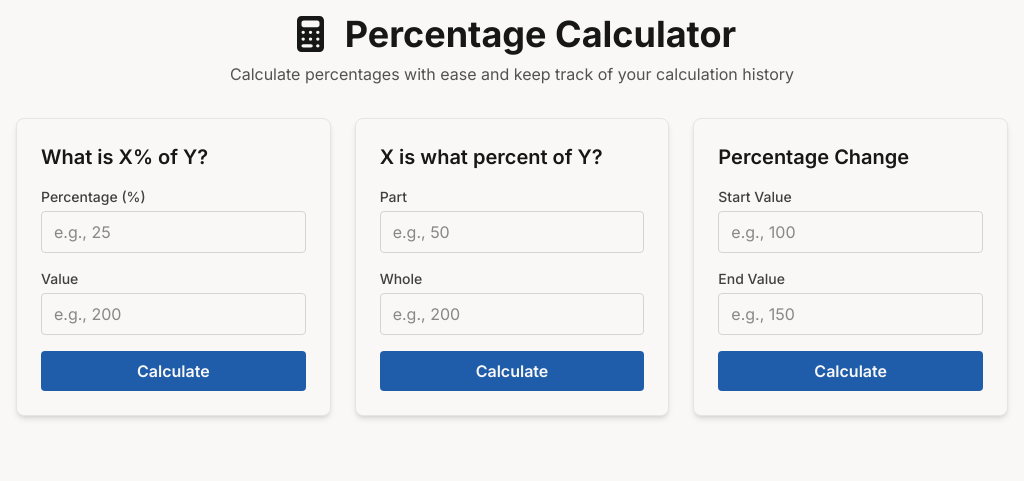
Test case: PercentageCalculator › Percentage Change Calculator › shows error when start value is zero
Step 1. Type "0" into the number field labelled "Start Value" → x=851, y=232, box [718, 211, 983, 253]
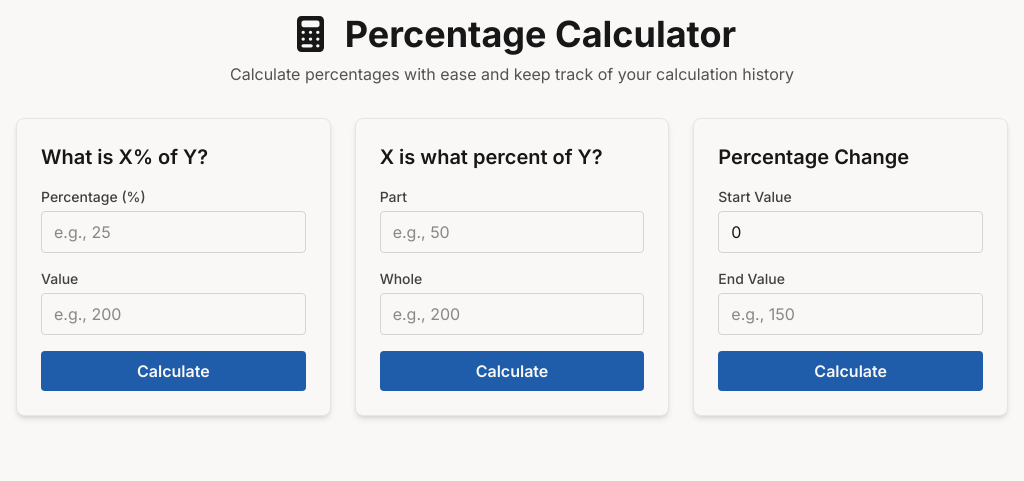
Step 2. Type "150" into the number field labelled "End Value" → x=851, y=314, box [718, 293, 983, 335]
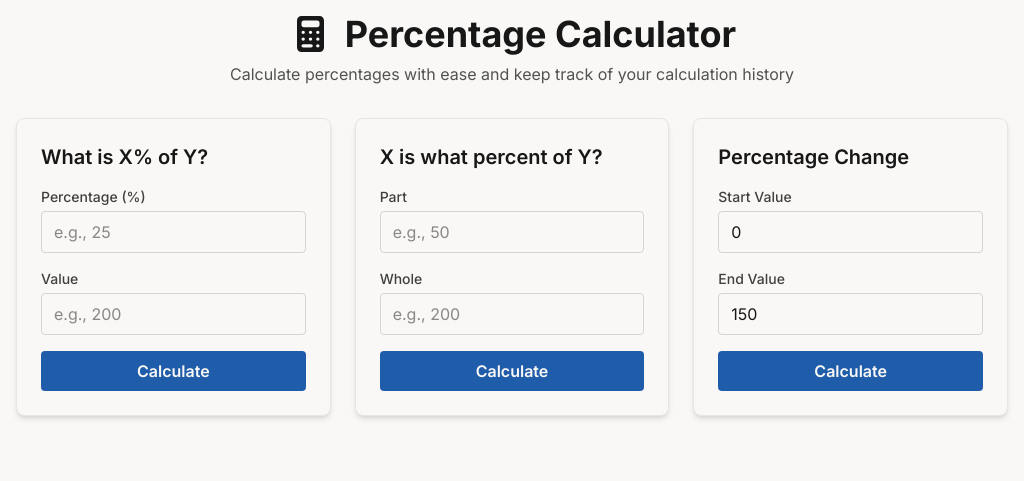
Step 3. Click the button "Calculate" below "End Value" → x=851, y=371, box [718, 351, 983, 391]
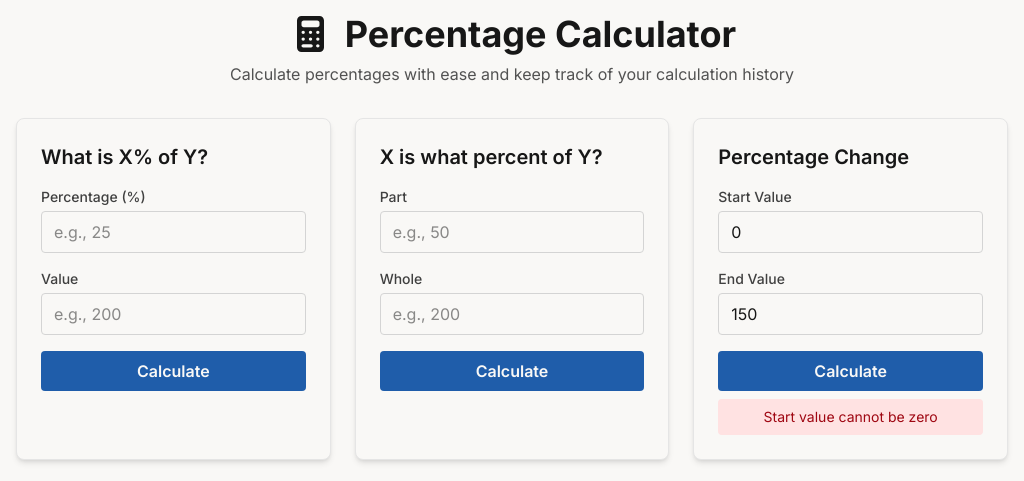
Expected: the text "Start value cannot be zero" is shown, [718, 399, 983, 435]
